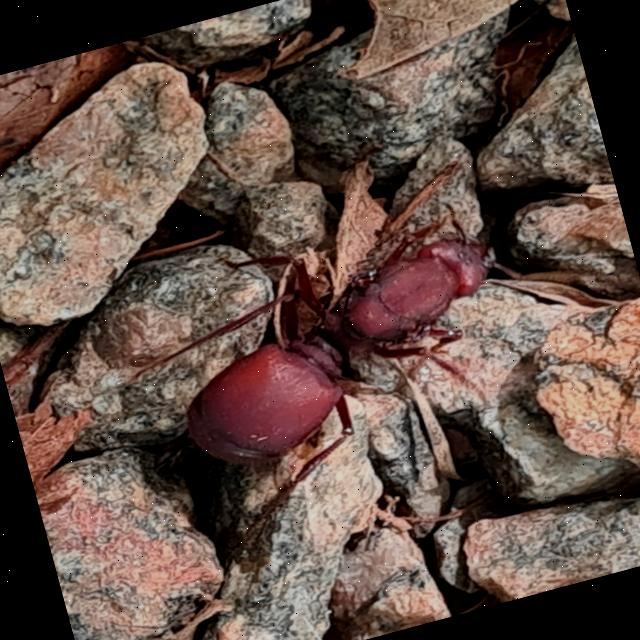Alive-Female-Dealate: (96, 164, 628, 582)
